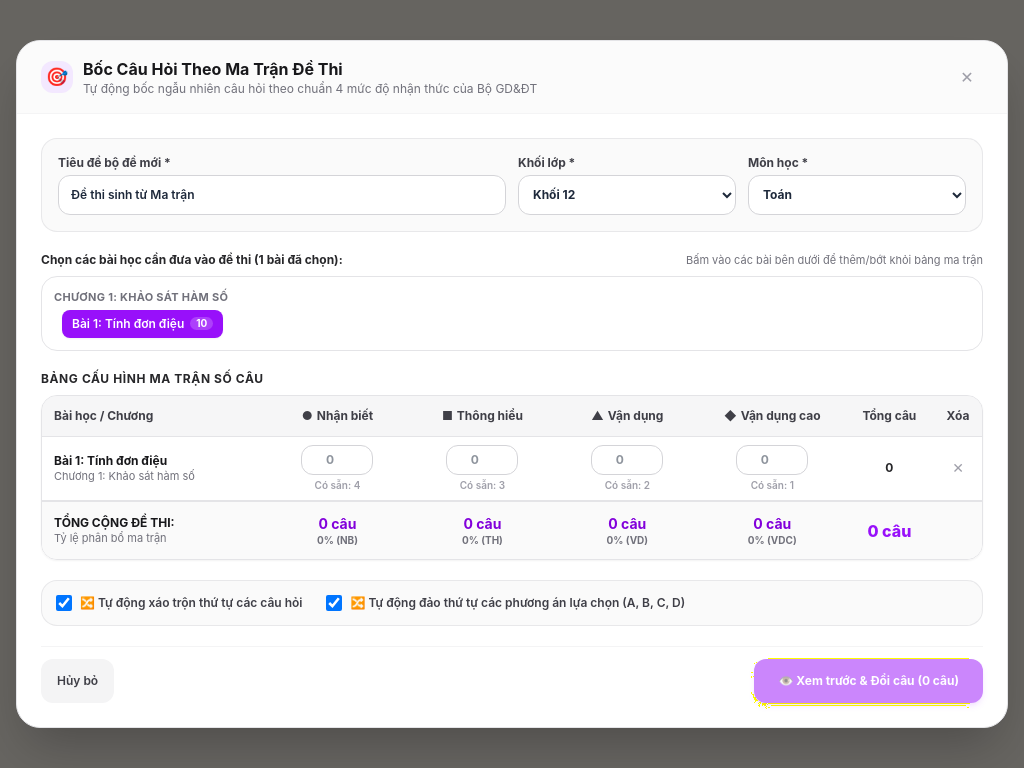
Test case: MatrixImportModal Component (Task 4.1 & 4.2) › warns in red and blocks submit when required count exceeds available
Type "10" into the 1st number field with placeholder "0".
click(338, 460); type("10")  # box [302, 445, 374, 475]
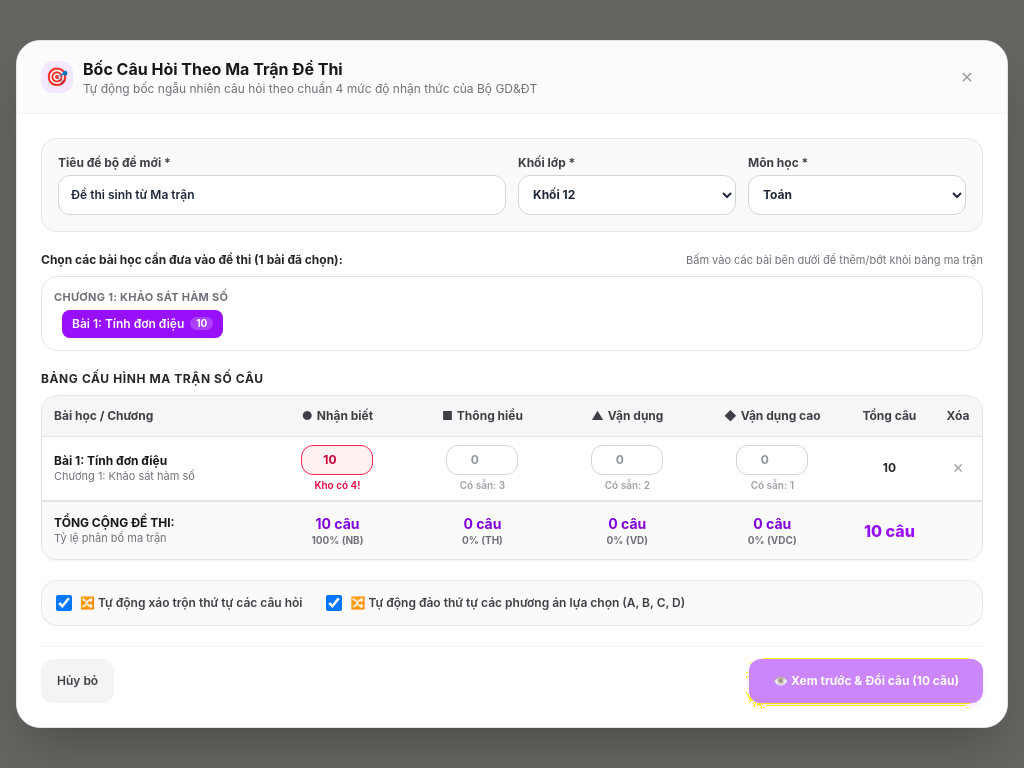
Check: the button "👁️ Xem trước & Đổi câu (10 câu)" is disabled, box [749, 659, 983, 703]
Check: the text "Kho có 4!" is shown, box [314, 479, 360, 492]
